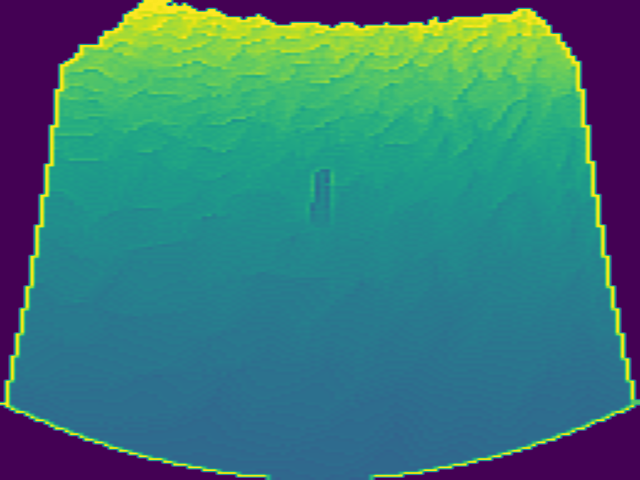car_0198: (309, 169, 332, 220)
